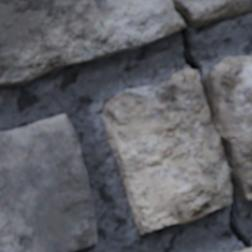brick: (0, 115, 96, 251)
broken_brick: (102, 68, 230, 235), (0, 0, 182, 89), (209, 56, 251, 202), (182, 0, 251, 28), (235, 248, 251, 251)
crack: (171, 0, 251, 249)
